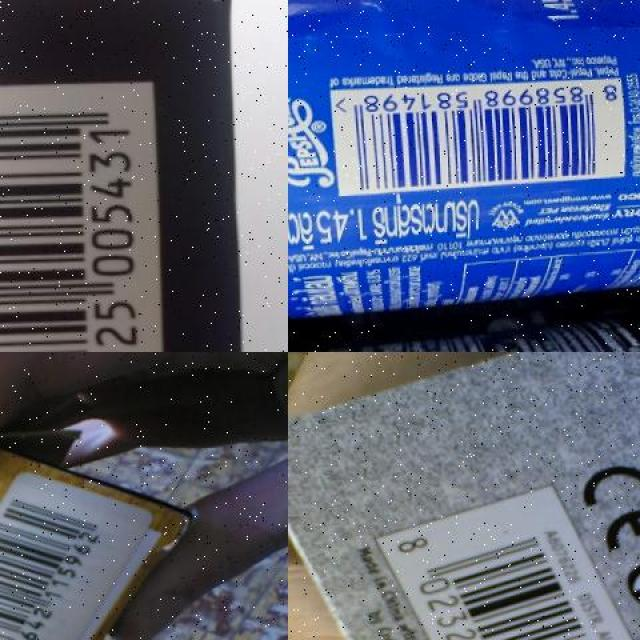Barcode: (0, 81, 164, 352), (373, 481, 640, 640), (330, 82, 621, 194), (0, 474, 142, 640)
